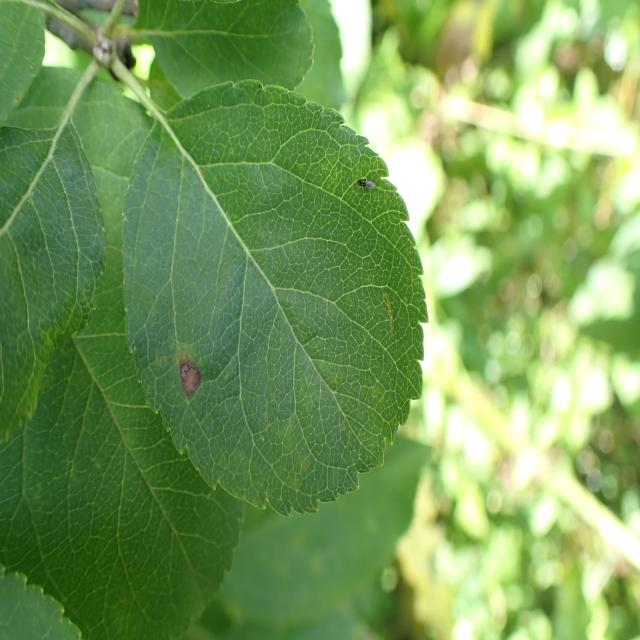Black Rot: (160, 337, 219, 403)
